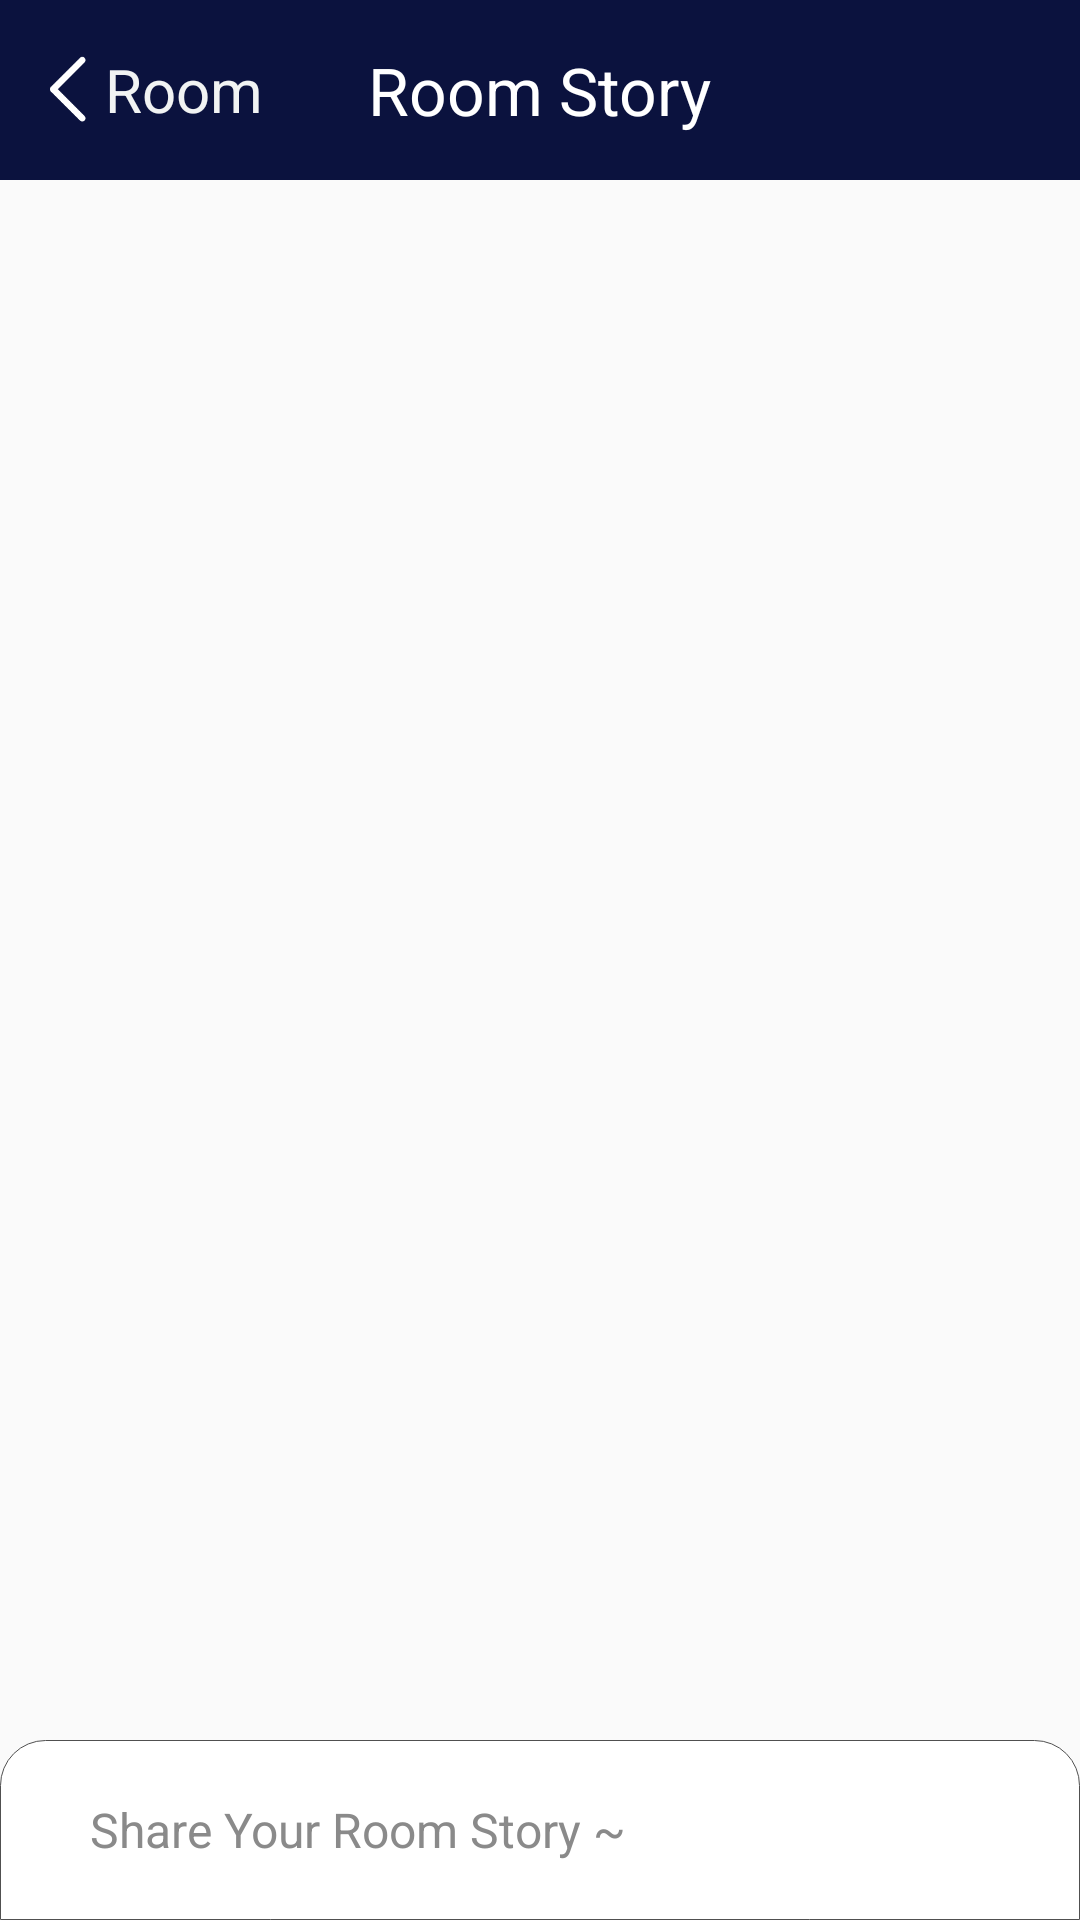

Icons on this 1080w x 1920h Android screen, each with the point to tap as (x,y):
arrow back: (68,89)
